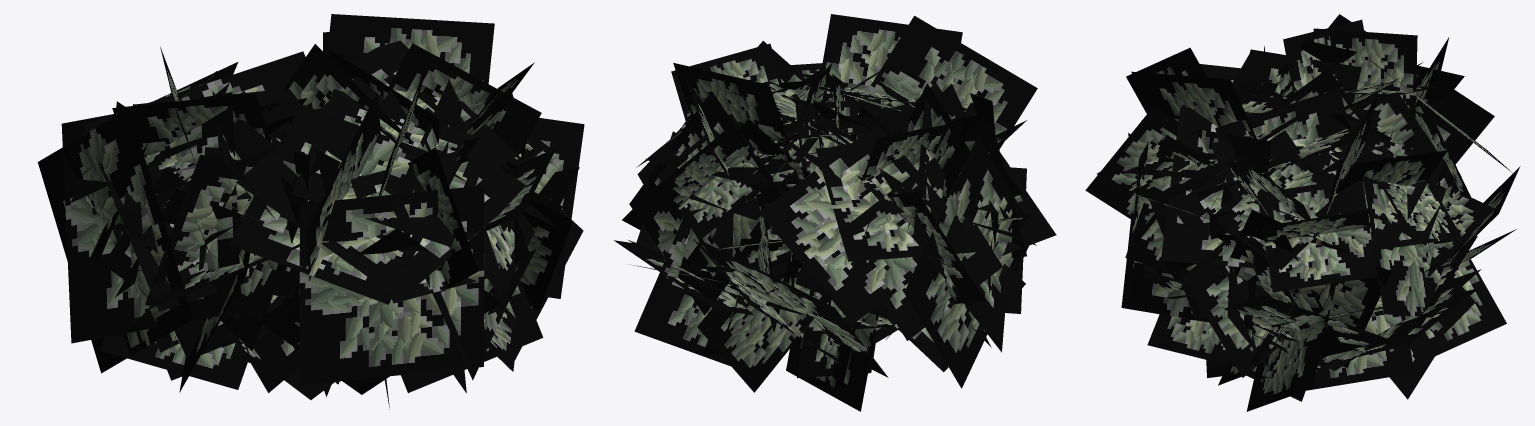
File: pilot_shrub_silver.glb
3 renders of one model, left to right at view 1: azimuth 30°, elevation 25°; view 2: azimuth 150°, elevation 25°; view 3: azimuth 270°, elevation 25°, orthographic. The views are drawn at different scales.
Parts seen in each view (by area): view 1: pilot_shrub_silver_leaves2, pilot_shrub_silver_leaves2.001, pilot_shrub_silver_leaves1.001, pilot_shrub_silver_leaves0, pilot_shrub_silver_leaves1, pilot_shrub_silver_leaves0.001; view 2: pilot_shrub_silver_leaves1.001, pilot_shrub_silver_leaves1, pilot_shrub_silver_leaves0, pilot_shrub_silver_leaves2, pilot_shrub_silver_leaves0.001, pilot_shrub_silver_leaves2.001; view 3: pilot_shrub_silver_leaves0, pilot_shrub_silver_leaves2, pilot_shrub_silver_leaves1, pilot_shrub_silver_leaves2.001, pilot_shrub_silver_leaves0.001, pilot_shrub_silver_leaves1.001.
Part boxes in pixels (x1,y1,x2,y2): pilot_shrub_silver_leaves2: (112,57,570,409); pilot_shrub_silver_leaves2.001: (222,70,558,399); pilot_shrub_silver_leaves1.001: (37,51,305,373); pilot_shrub_silver_leaves0: (323,14,584,392); pilot_shrub_silver_leaves1: (90,44,412,396); pilot_shrub_silver_leaves0.001: (335,40,562,384); pilot_shrub_silver_leaves1.001: (698,99,1036,388); pilot_shrub_silver_leaves1: (694,74,1056,411); pilot_shrub_silver_leaves0: (622,43,856,366); pilot_shrub_silver_leaves2: (737,14,1037,304); pilot_shrub_silver_leaves0.001: (614,81,845,315); pilot_shrub_silver_leaves2.001: (772,69,995,279); pilot_shrub_silver_leaves0: (1156,88,1481,411); pilot_shrub_silver_leaves2: (1085,45,1442,377); pilot_shrub_silver_leaves1: (1232,19,1516,363); pilot_shrub_silver_leaves2.001: (1097,74,1357,329); pilot_shrub_silver_leaves0.001: (1194,91,1479,379); pilot_shrub_silver_leaves1.001: (1276,14,1520,268).
Size of the model in its own units: 1.62 by 1.16 by 1.41.
1 material, 1 textured.
